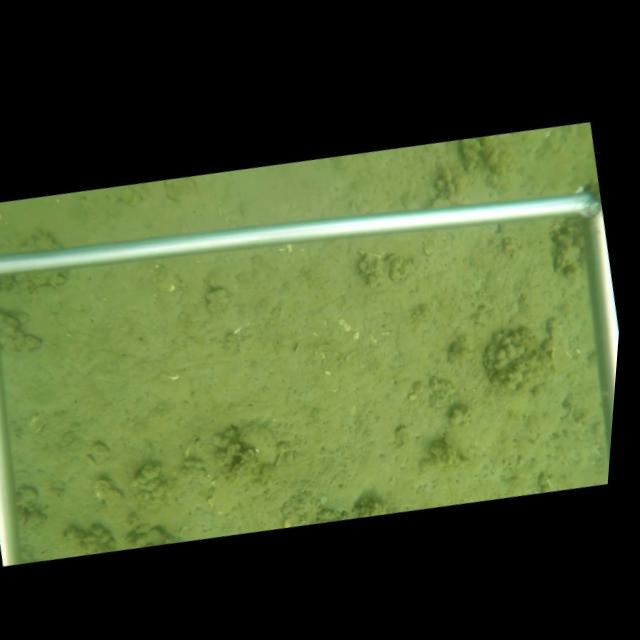Oyster-Indeterminate: (235, 421, 276, 463)
